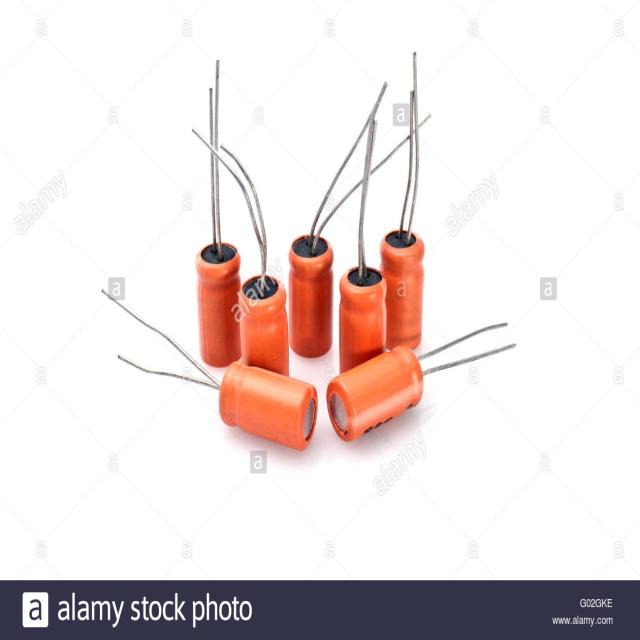capacitor: (289, 82, 431, 359), (100, 289, 319, 450), (192, 127, 289, 376), (326, 320, 517, 441), (196, 60, 242, 366), (379, 50, 424, 348), (338, 102, 386, 376)
